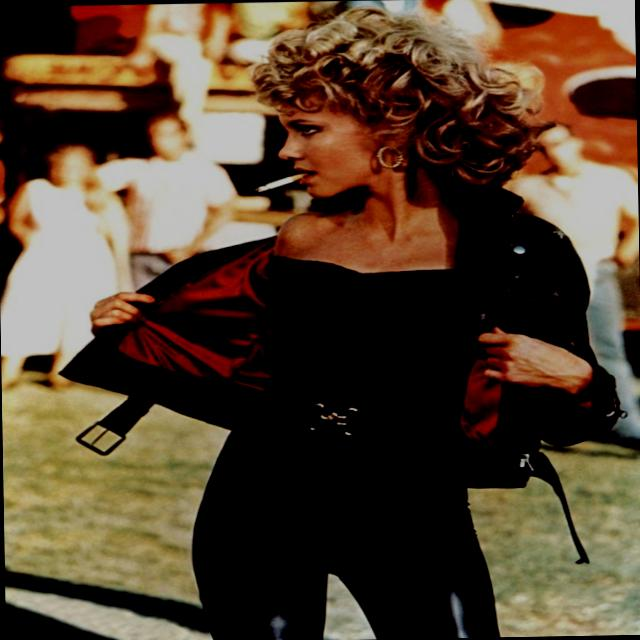smoke: (219, 150, 326, 216)
